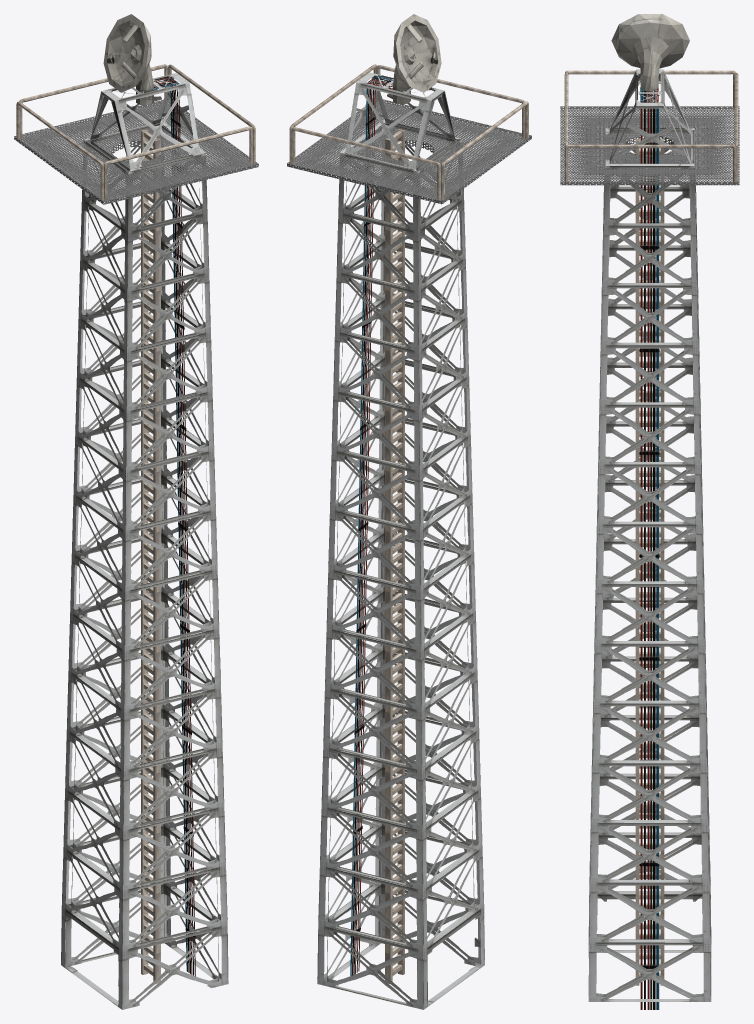
Rendered from Tower.fbx.
3 renders of one model, left to right at view 1: azimuth 30°, elevation 25°; view 2: azimuth 150°, elevation 25°; view 3: azimuth 270°, elevation 25°, orthographic.
Parts seen in each view (by area): view 1: Long_tower, Ladder, Platform, Cables, Icosphere, Fence.001, Fence, Fence.002, Fence.003; view 2: Long_tower, Ladder, Platform, Cables, Icosphere, Fence.002, Fence, Fence.001, Fence.003; view 3: Long_tower, Cables, Platform, Ladder, Icosphere, Fence.003, Fence, Fence.002.
Boxes of the visible parts, x1,y1,x2,y2 form: Long_tower: [61, 73, 228, 1009]; Ladder: [141, 129, 160, 983]; Platform: [14, 99, 258, 204]; Cables: [149, 77, 195, 976]; Icosphere: [103, 14, 161, 105]; Fence.001: [104, 126, 252, 201]; Fence: [16, 101, 103, 201]; Fence.002: [19, 64, 167, 138]; Fence.003: [168, 64, 255, 164]; Long_tower: [317, 72, 484, 1009]; Ladder: [385, 129, 404, 983]; Platform: [287, 99, 531, 204]; Cables: [350, 75, 395, 975]; Icosphere: [387, 14, 441, 104]; Fence.002: [291, 127, 440, 201]; Fence: [441, 101, 528, 201]; Fence.001: [376, 65, 525, 139]; Fence.003: [289, 64, 376, 164]; Long_tower: [588, 69, 711, 1001]; Cables: [639, 87, 659, 1009]; Platform: [560, 106, 739, 185]; Ladder: [635, 138, 664, 985]; Icosphere: [611, 14, 689, 102]; Fence.003: [564, 144, 736, 184]; Fence: [565, 70, 735, 109]; Fence.002: [734, 72, 738, 181].
Bounding box in the file's own units: 465 × 2771 × 465.
